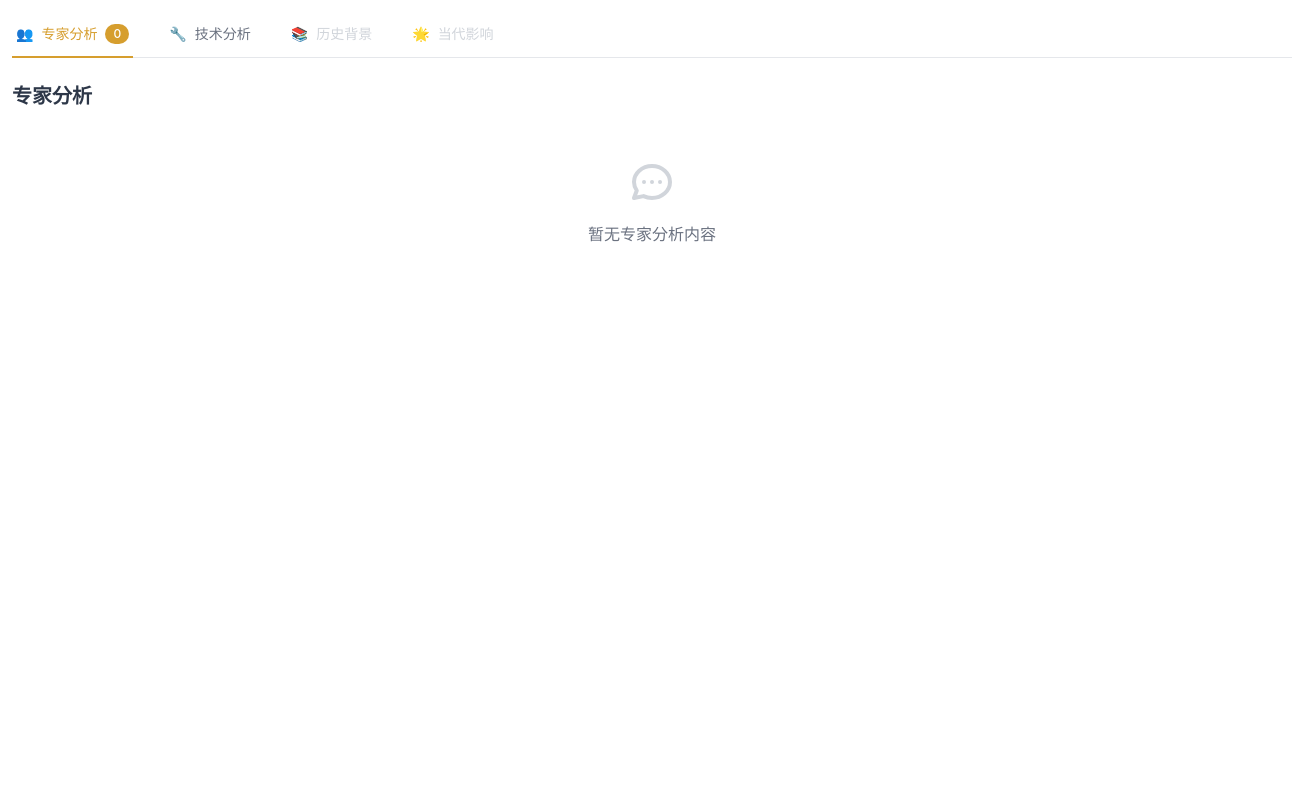
ExpertCommentary › Technical Analysis Display › renders technical analysis section when provided
The width and height of the screenshot is (1292, 812).
# Switch to technical tab
Click the text "技术分析".
click(223, 34)  # box [195, 24, 251, 44]
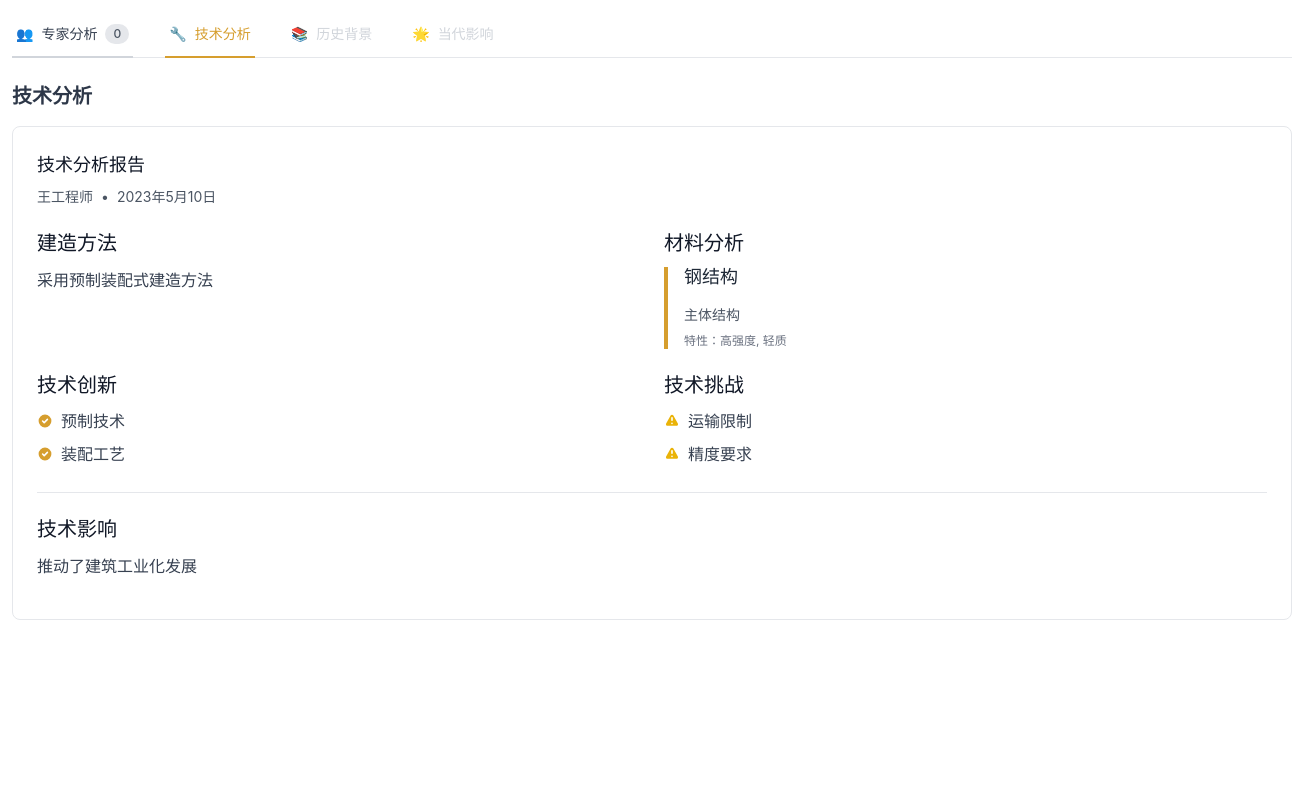
Expected: the heading "技术分析报告" is shown, [37, 155, 145, 175]
Expected: the text "王工程师" is shown, [37, 187, 93, 207]
Expected: the text "采用预制装配式建造方法" is shown, [37, 270, 213, 290]
